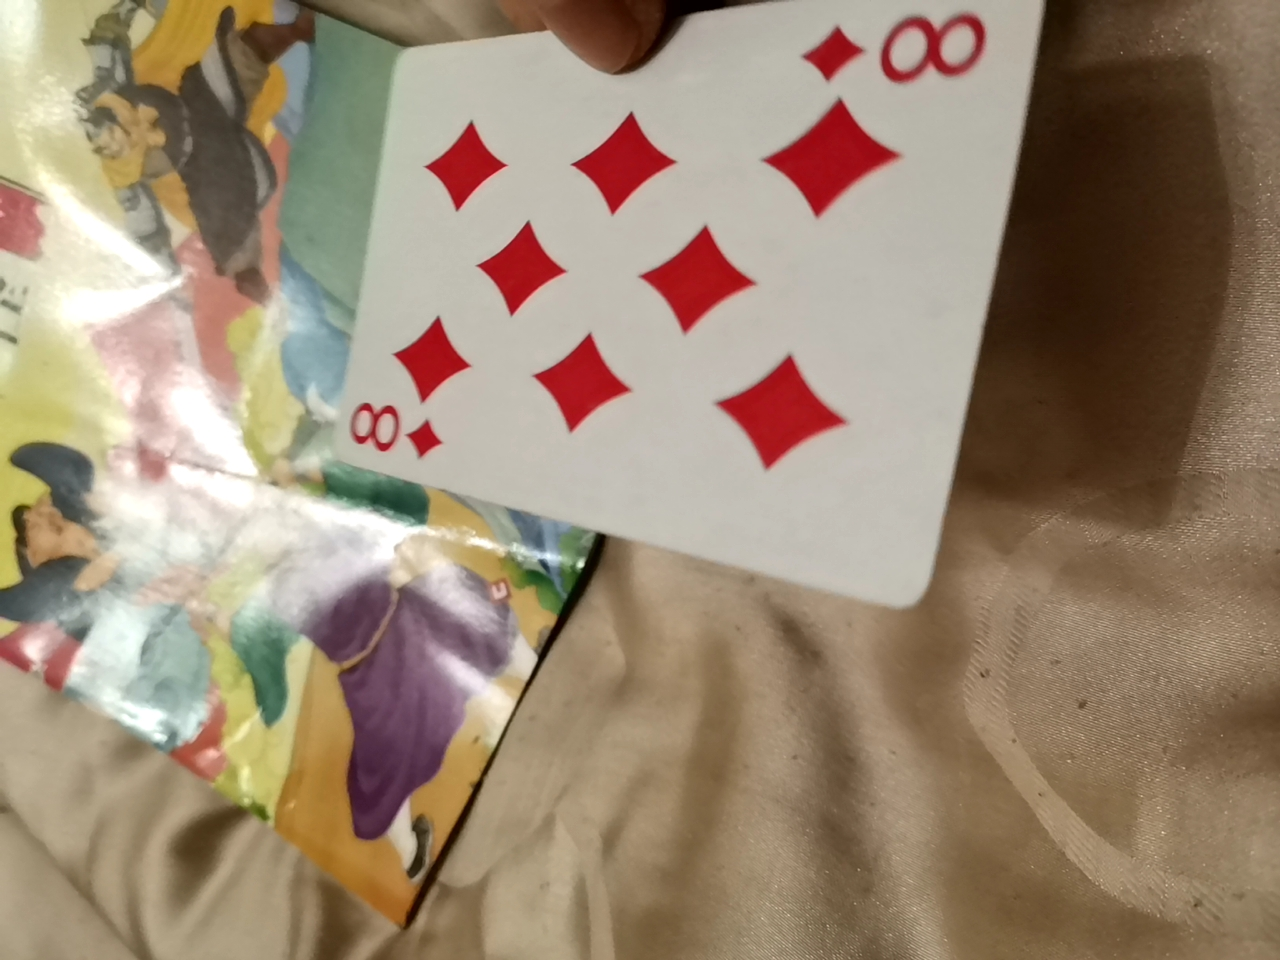fk 8: (342, 49, 1078, 572)
